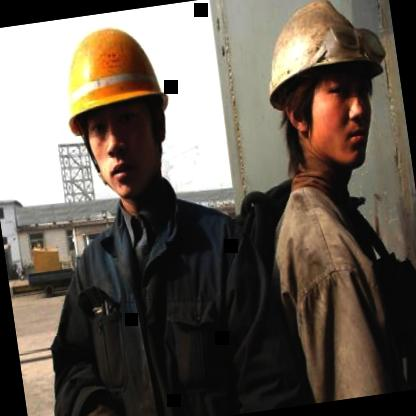helmet: (245, 0, 406, 197), (45, 12, 194, 220)
